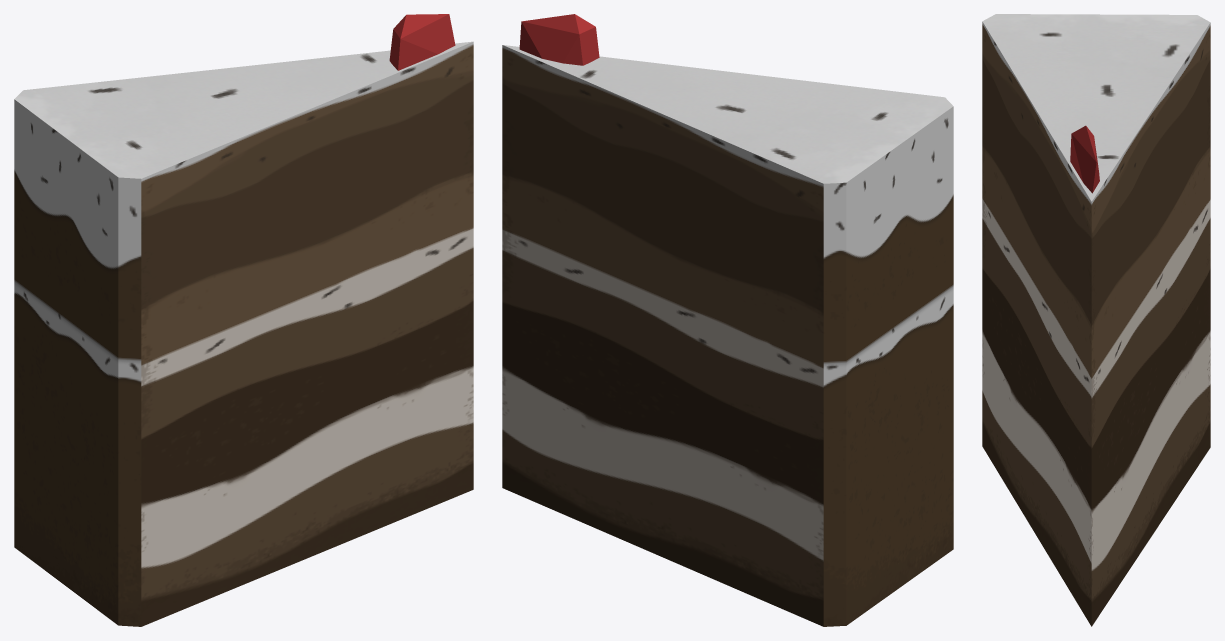
File: cake_slice.fbx
3 views of the same model, side by side, from view 1: azimuth 30°, elevation 25°; view 2: azimuth 150°, elevation 25°; view 3: azimuth 270°, elevation 25° (orthographic). The views are drawn at different scales.
Visible parts, largest first — view 1: cake_slice; view 2: cake_slice; view 3: cake_slice.
Boxes of the visible parts, left/top/right/bottom form: cake_slice: left=14, top=14, right=473, bottom=626; cake_slice: left=502, top=14, right=953, bottom=626; cake_slice: left=982, top=14, right=1210, bottom=626.
Size of the model in its own units: 11.86 by 13.81 by 6.09.
